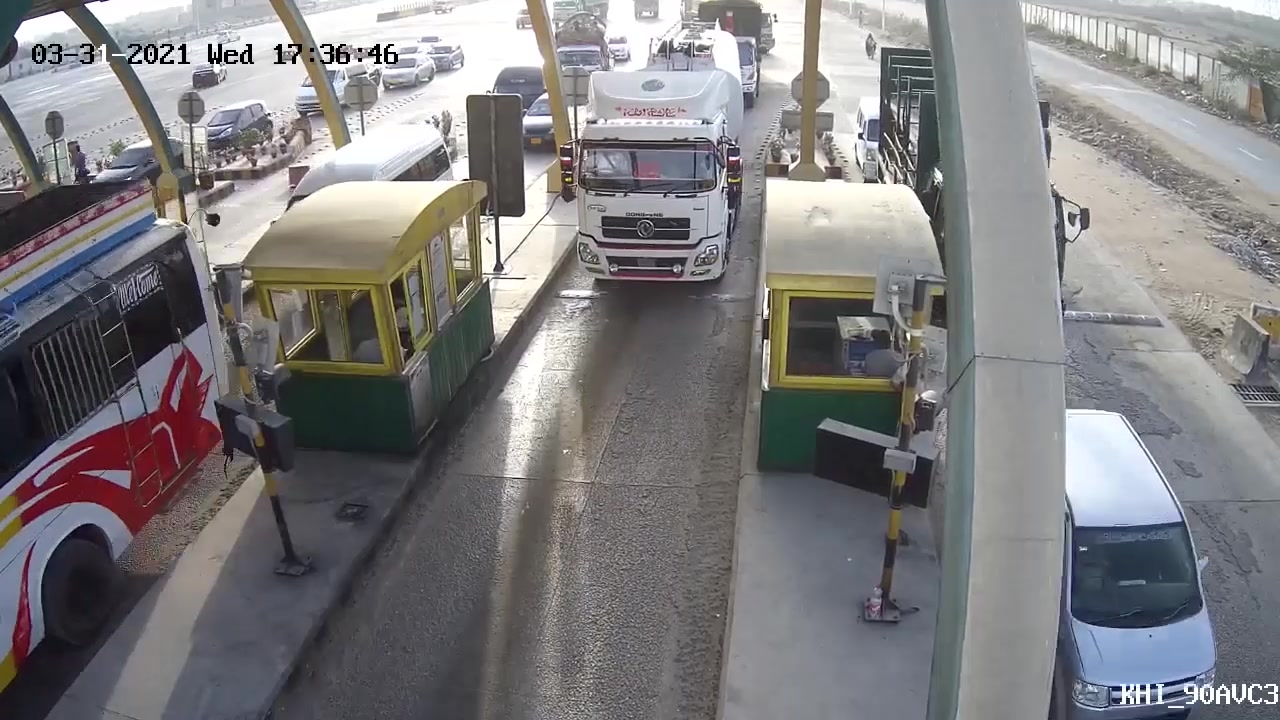F6: (557, 62, 755, 307)
